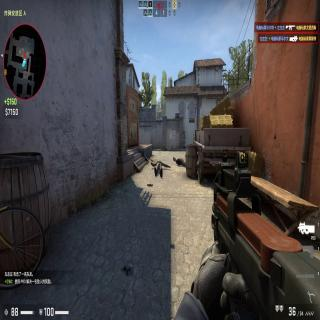T-Head: (173, 156, 176, 162)
